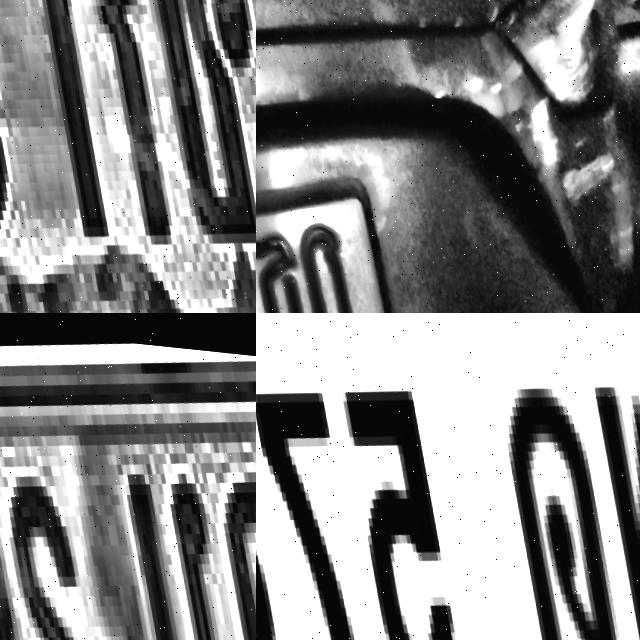license-plate: (256, 313, 640, 640), (0, 313, 256, 640), (0, 0, 256, 313)
